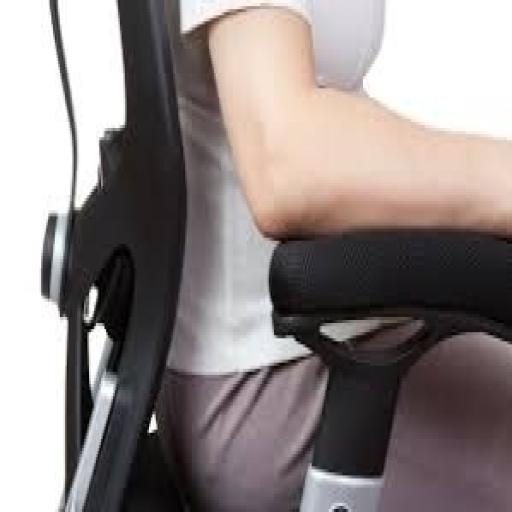sitting: (113, 0, 510, 509)
